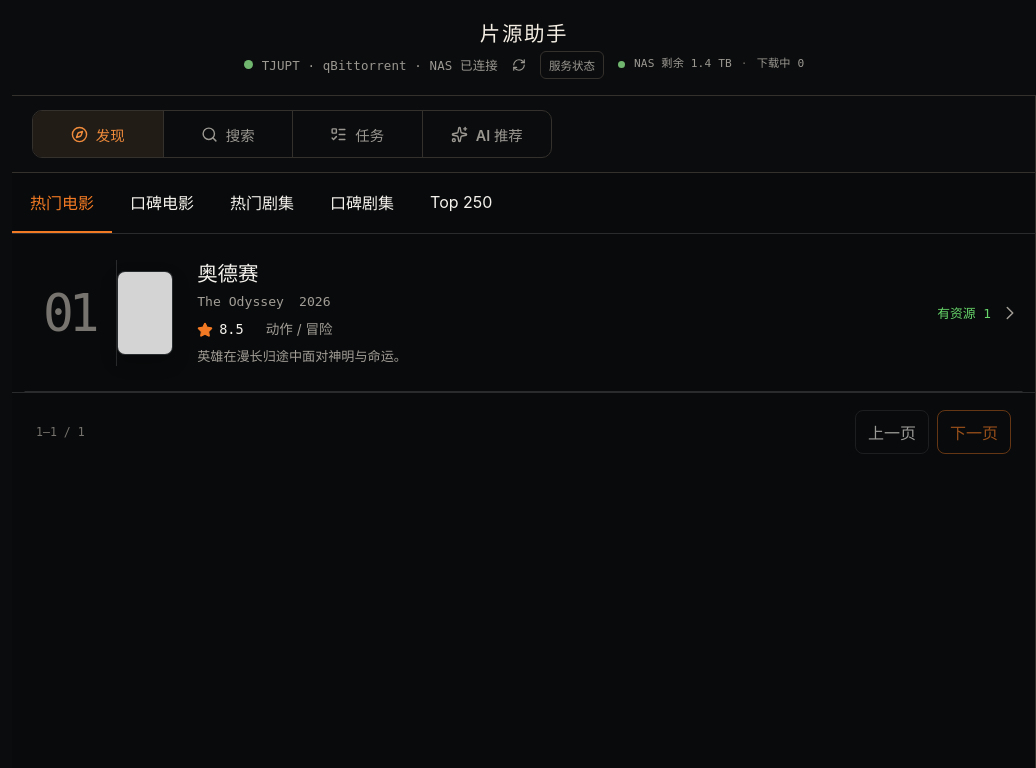
Test: 片源助手客户端 › renders a user query and works only, leaving releases to the selected work
Click the tab "搜索": {"x": 227, "y": 134} [162,111,292,157]
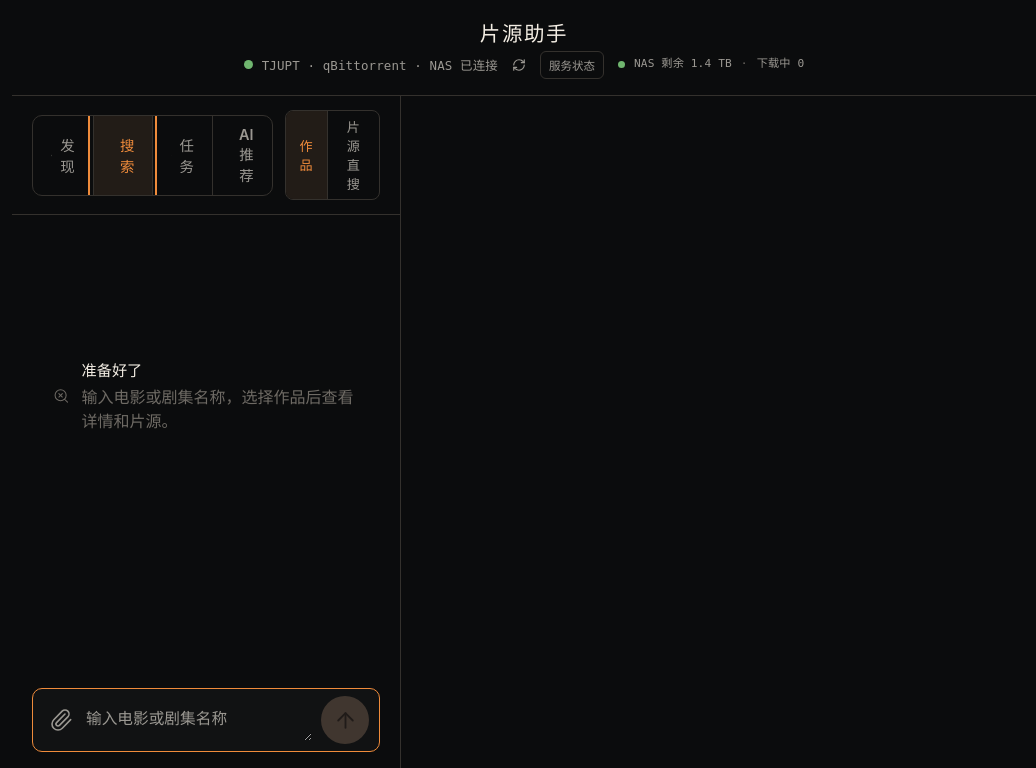
In the text box with placeholder "输入电影或剧集名称": {"x": 199, "y": 720} [86,699,312,741], type "星际穿越"
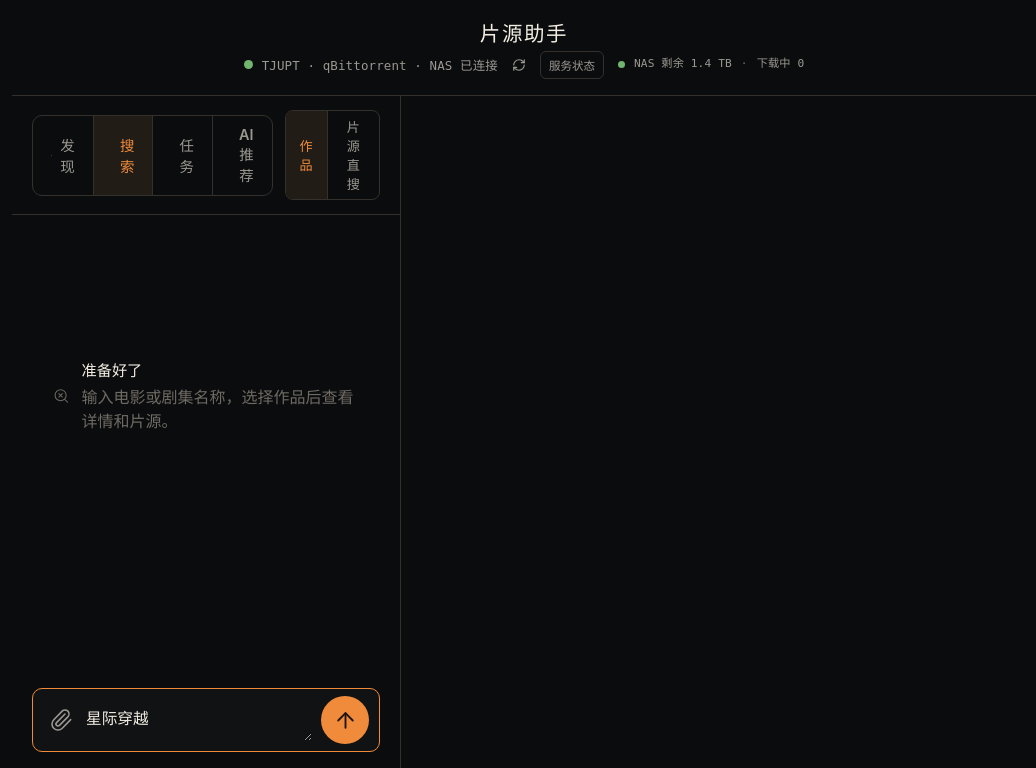
Click the button named "发送搜索": {"x": 345, "y": 720} [321,696,369,744]
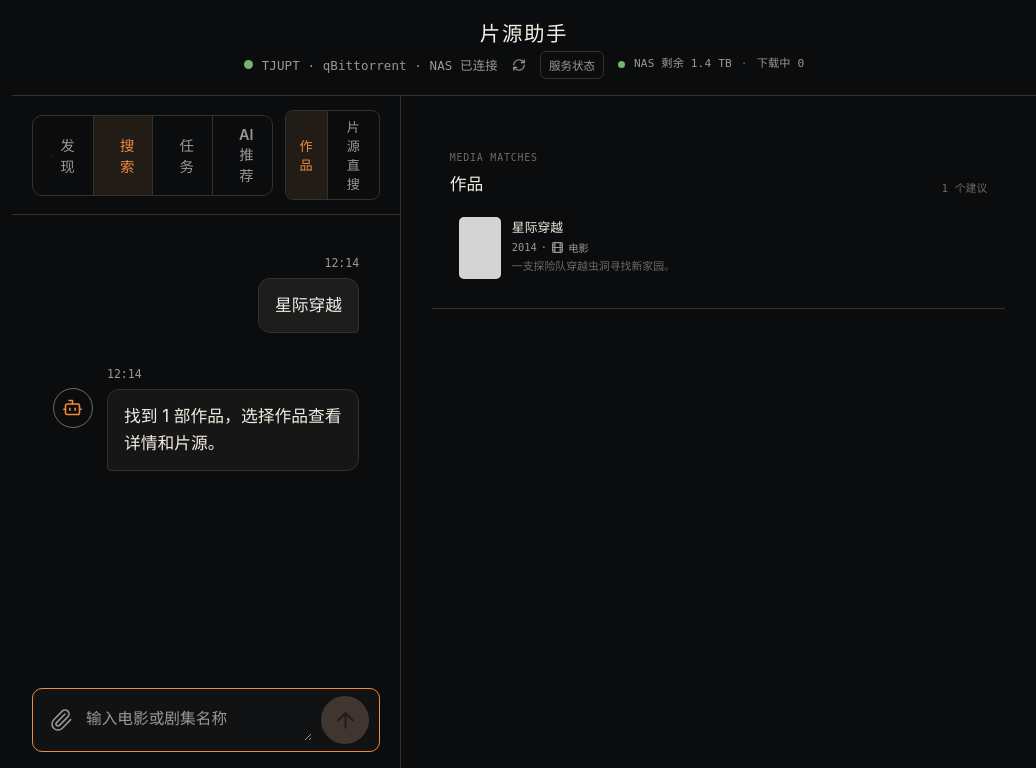
Check: the text "找到 1 部作品，选择作品查看详情和片源。" is shown, box [107,389,359,471]
Check: the button with aria-label "星际穿越，2014，电影" is shown, box [450,208,987,288]
